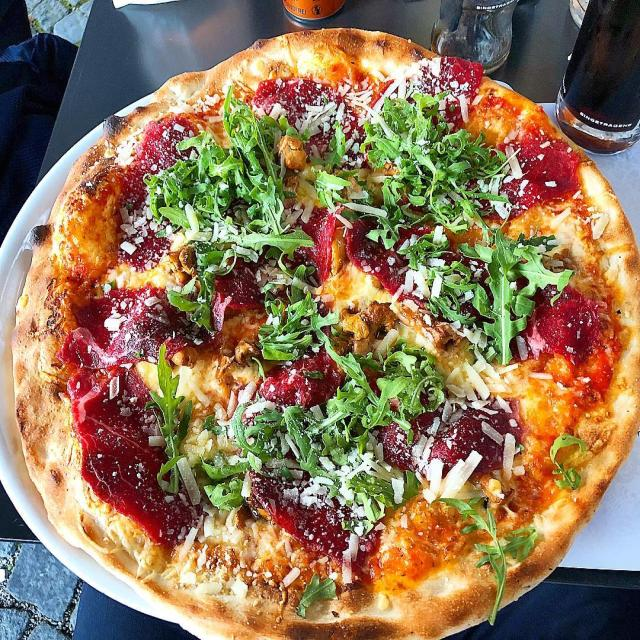pizza: (7, 23, 640, 640)
